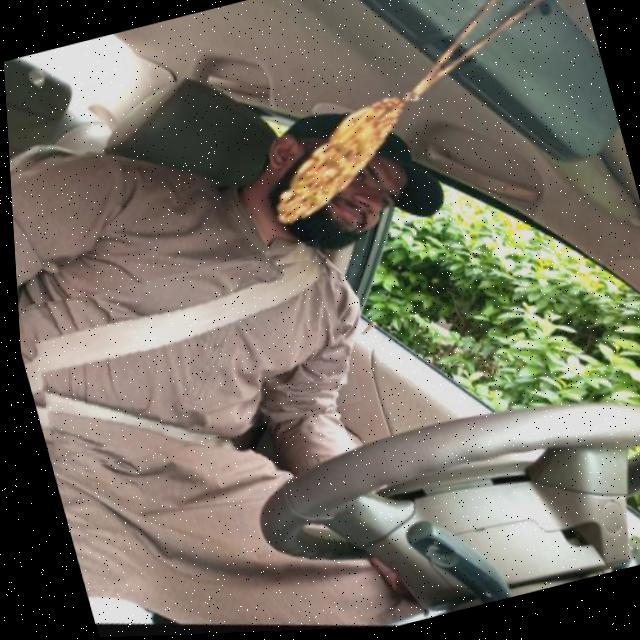seatbelt: (12, 239, 360, 477)
